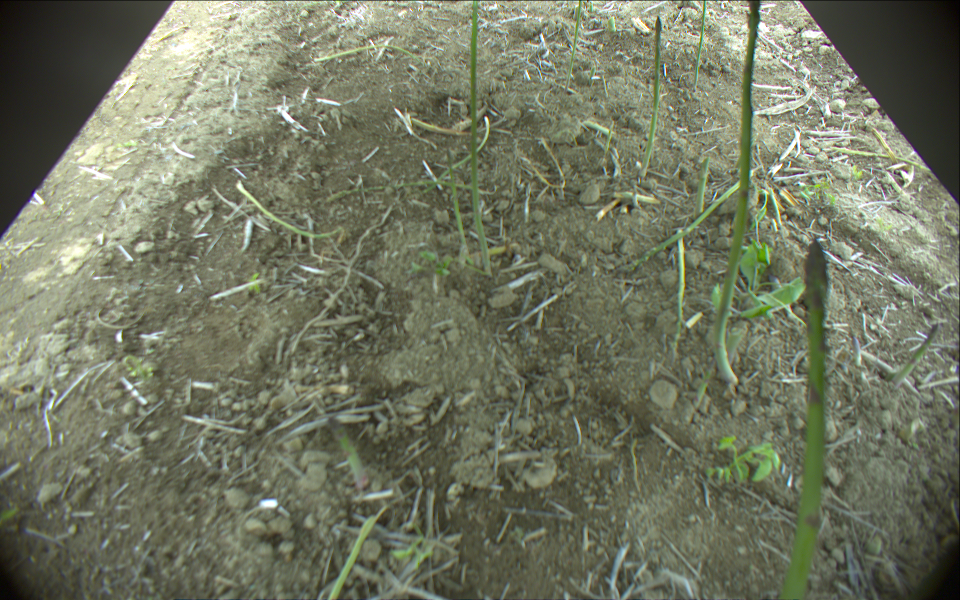aspa: (773, 239, 829, 600), (713, 1, 764, 384), (620, 168, 754, 268), (466, 1, 496, 275), (233, 180, 339, 240), (325, 510, 388, 600), (638, 16, 664, 185), (441, 145, 470, 255), (890, 321, 936, 385), (829, 145, 929, 169), (313, 45, 421, 62), (563, 1, 583, 92), (694, 1, 709, 93), (676, 228, 686, 335), (695, 155, 712, 216), (599, 120, 616, 169), (588, 65, 597, 84), (607, 14, 616, 32)
